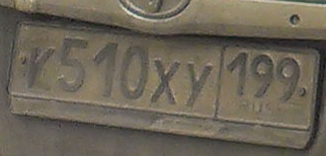character: (57, 35, 90, 100), (92, 36, 120, 102), (23, 44, 59, 94), (121, 44, 149, 107), (183, 61, 215, 112), (150, 57, 180, 108), (248, 51, 274, 105), (275, 54, 302, 106), (226, 48, 249, 102)
